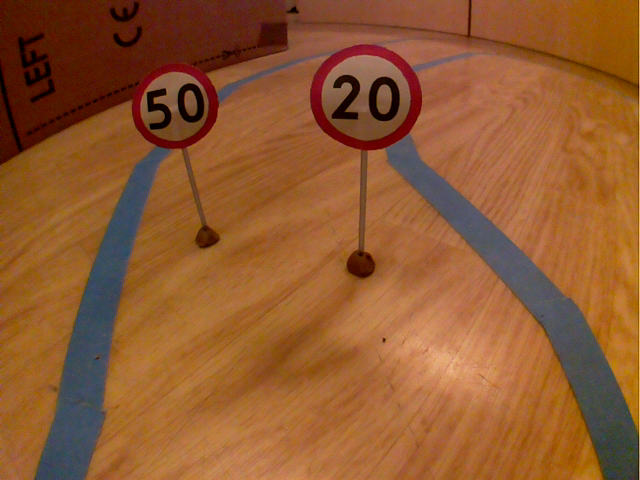Ograniczenie 20: (305, 38, 427, 156)
Ograniczenie 50: (129, 58, 223, 153)
